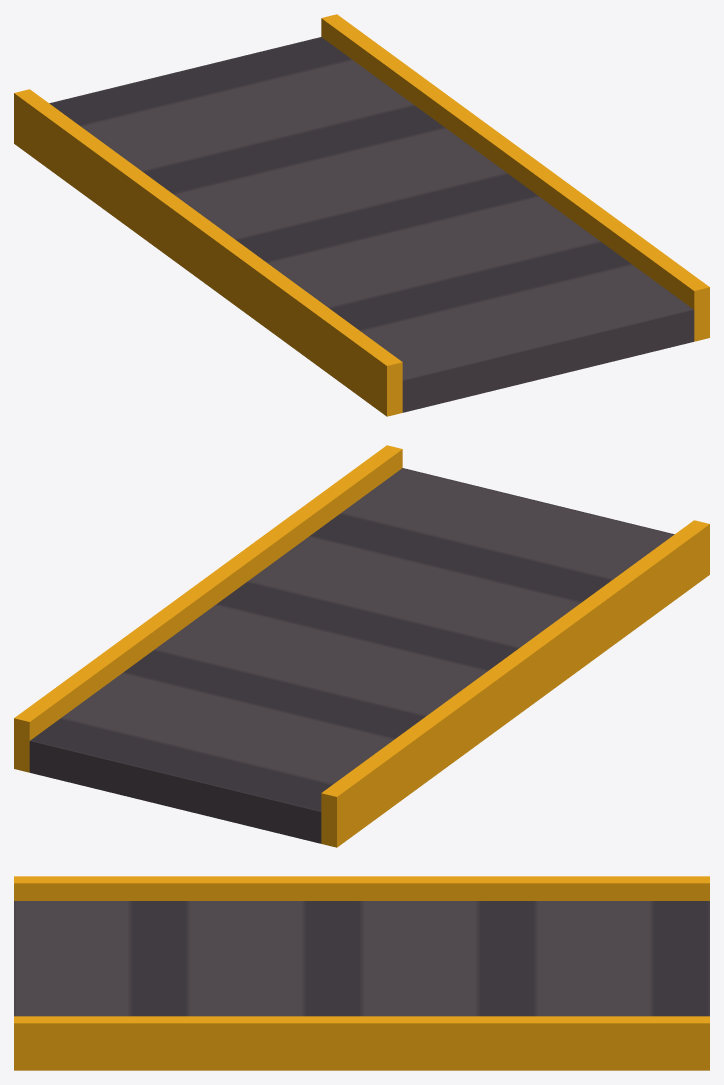
Rendered from lenta2.fbx.
The picture shows the model from 3 angles, top to bottom: view 1: azimuth 30°, elevation 25°; view 2: azimuth 150°, elevation 25°; view 3: azimuth 270°, elevation 25°; orthographic projection. The views are drawn at different scales.
Visible parts, largest first — view 1: Cylinder; view 2: Cylinder; view 3: Cylinder.
Boxes of the visible parts, left/top/right/bottom form: Cylinder: left=14, top=14, right=709, bottom=416; Cylinder: left=14, top=445, right=709, bottom=847; Cylinder: left=14, top=876, right=709, bottom=1070.
Size of the model in its own units: 2 by 0.3 by 4.
2 materials, 2 textured.
